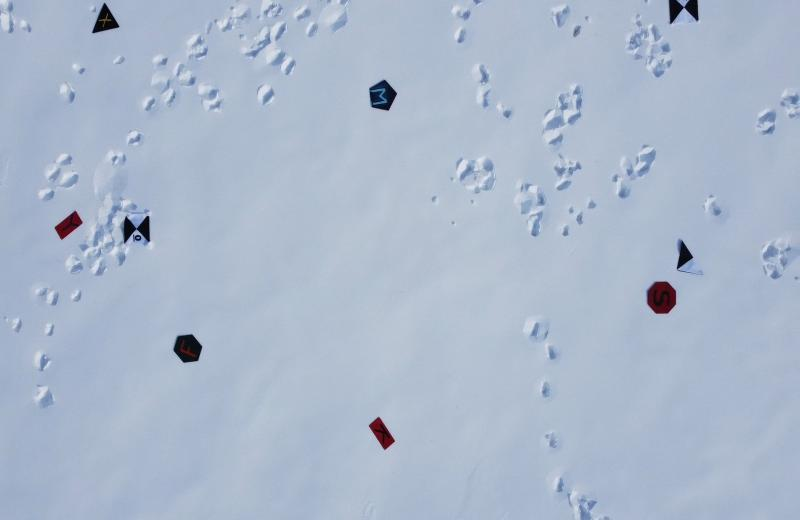Hexagon: (172, 332, 204, 365)
Octagon: (645, 279, 678, 317)
Pentagon: (368, 78, 398, 113)
Rectangle: (53, 208, 83, 242), (368, 416, 396, 450)
Triangle: (91, 0, 120, 34)
